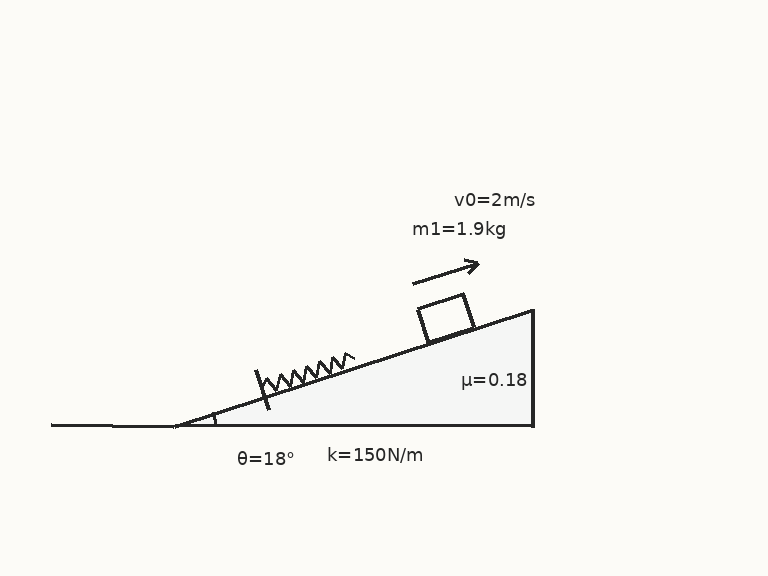block: (415, 292, 476, 345)
ramp: (173, 307, 534, 427)
spring: (259, 351, 356, 392)
